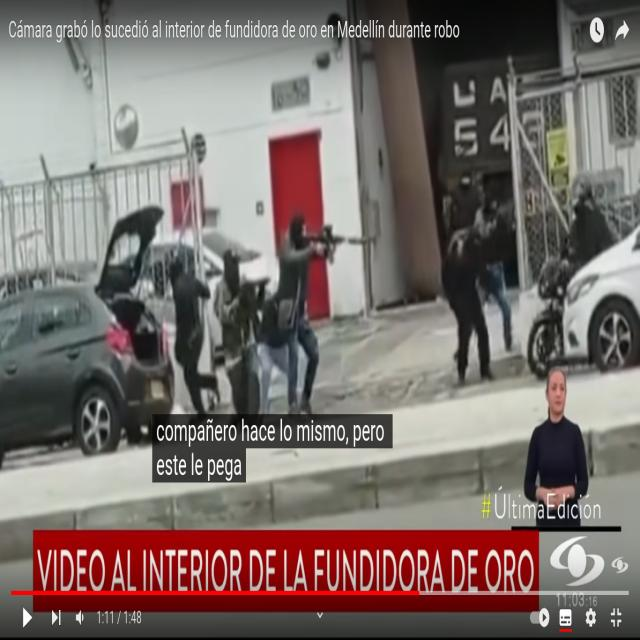FRifle: (300, 223, 380, 255), (240, 271, 273, 298)
